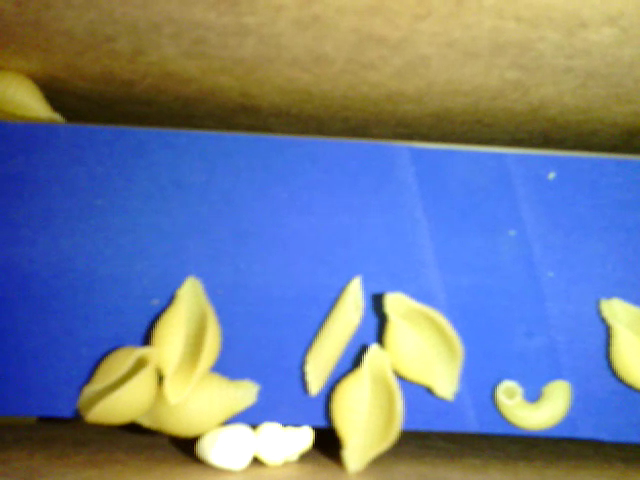elbow: (492, 381, 575, 429)
penne: (301, 270, 365, 401)
shell: (141, 270, 227, 405), (326, 342, 403, 473), (381, 288, 464, 406), (131, 370, 262, 436), (73, 342, 162, 429), (4, 64, 65, 127), (596, 300, 638, 388)
